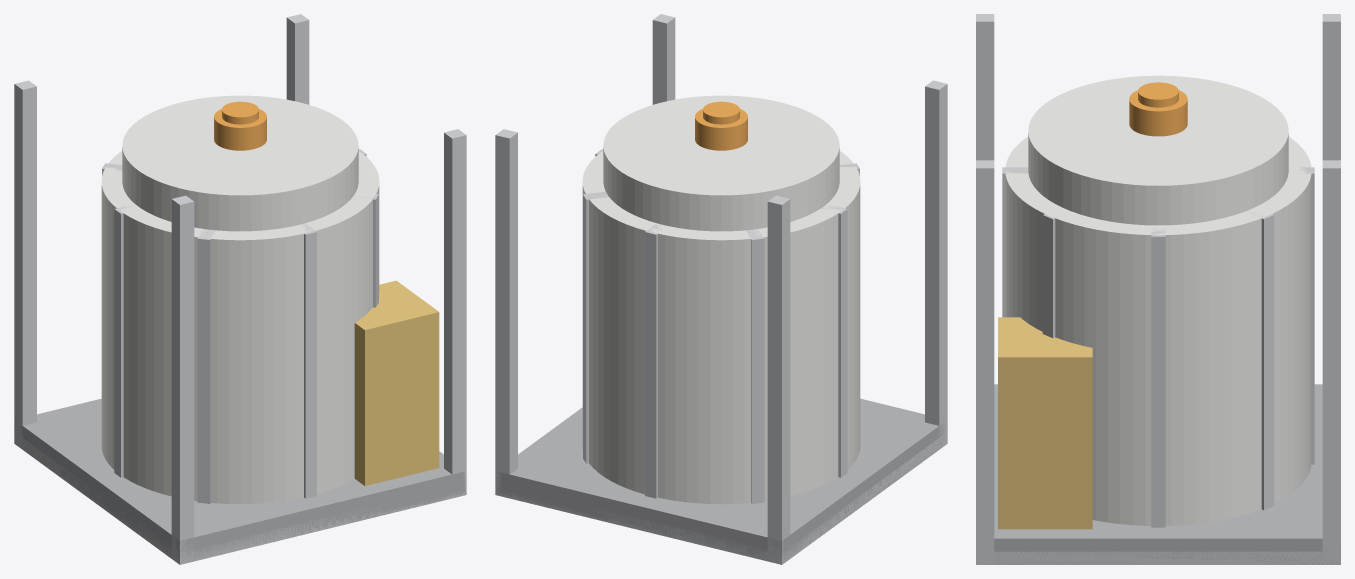
The model's file is power14_reaction_wheel_m.glb.
3 views of the same model, side by side, from view 1: azimuth 30°, elevation 25°; view 2: azimuth 150°, elevation 25°; view 3: azimuth 270°, elevation 25° (orthographic). The views are drawn at different scales.
Visible parts, largest first — view 1: wheel_housing, slot_frame, base_plate, electronics, housing_ribs, port_1; view 2: wheel_housing, slot_frame, base_plate, housing_ribs, port_1; view 3: wheel_housing, slot_frame, electronics, base_plate, housing_ribs, port_1.
Part boxes in pixels (x1,y1,x2,y2): wheel_housing: (101,95,379,504); slot_frame: (14,14,466,564); base_plate: (14,398,466,563); electronics: (354,280,439,485); housing_ribs: (102,149,378,503); port_1: (214,101,266,150); wheel_housing: (582,95,860,504); slot_frame: (495,14,947,564); base_plate: (495,398,947,564); housing_ribs: (583,149,859,503); port_1: (695,101,747,150); wheel_housing: (1005,75,1311,525); slot_frame: (976,14,1340,564); electronics: (998,317,1092,529); base_plate: (979,384,1339,564); housing_ribs: (1002,167,1314,527); port_1: (1129,82,1187,136).
Bounding box in the file's own units: 0.5 × 0.6 × 0.5.
